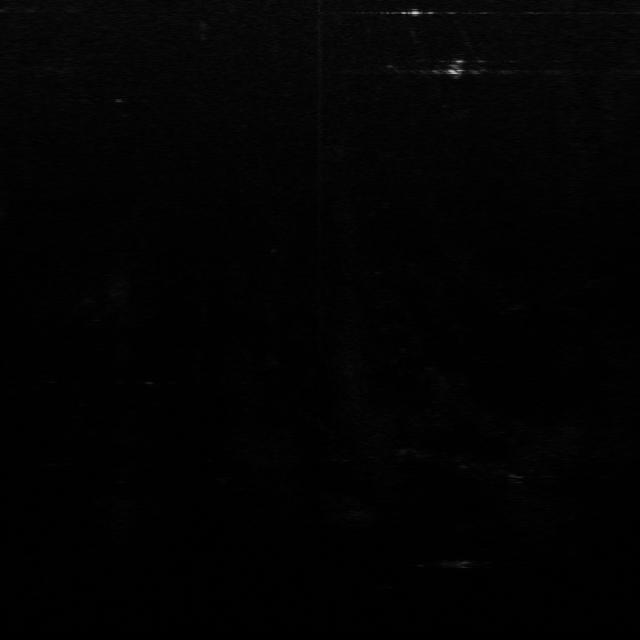rov: (443, 54, 471, 78)
